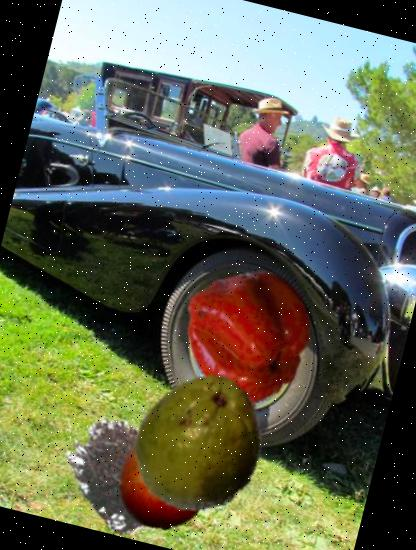Guava: (114, 359, 288, 532)
Nectarine: (106, 422, 226, 542)
Pepper: (169, 251, 330, 413)
Potato: (122, 354, 282, 514)
Rambutan: (52, 401, 197, 546)
